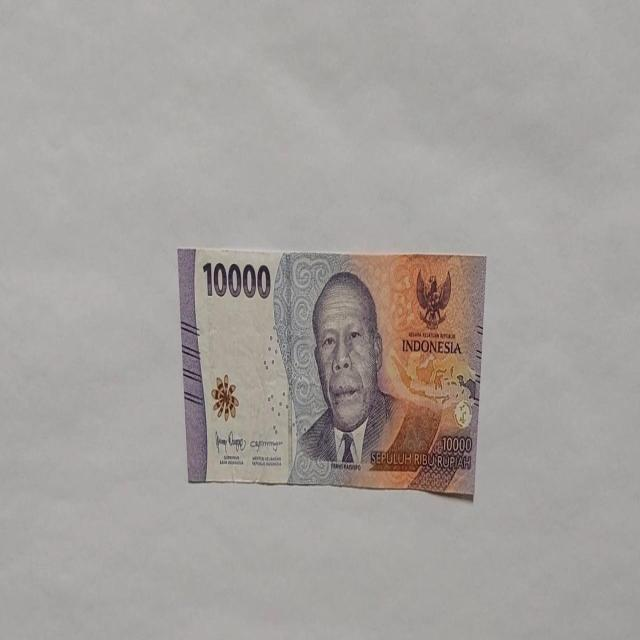Kertas: (178, 245, 487, 500)
